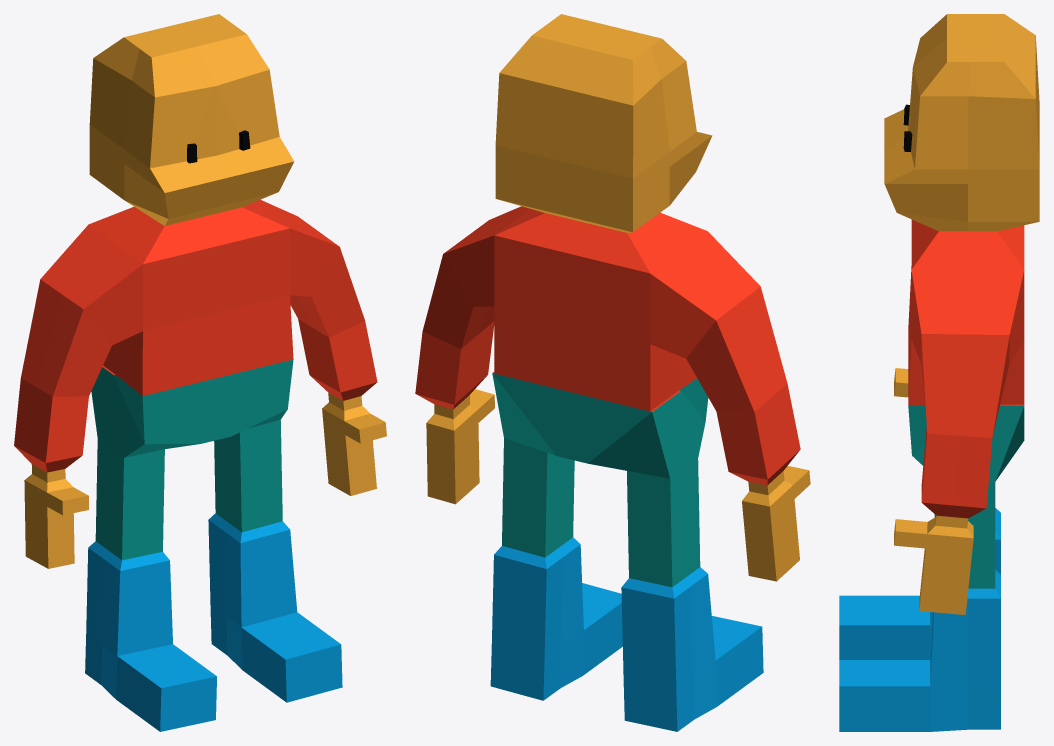
The model's file is Human3.fbx.
3 renders of one model, left to right at view 1: azimuth 30°, elevation 25°; view 2: azimuth 150°, elevation 25°; view 3: azimuth 270°, elevation 25°, orthographic. The views are drawn at different scales.
Visible parts, largest first — view 1: BaseHuman.001; view 2: BaseHuman.001; view 3: BaseHuman.001.
Part boxes in pixels (left/top/right/bottom): BaseHuman.001: left=14, top=14, right=386, bottom=731; BaseHuman.001: left=415, top=14, right=810, bottom=731; BaseHuman.001: left=839, top=14, right=1039, bottom=731.
Size of the model in its own units: 227 by 409 by 114.
